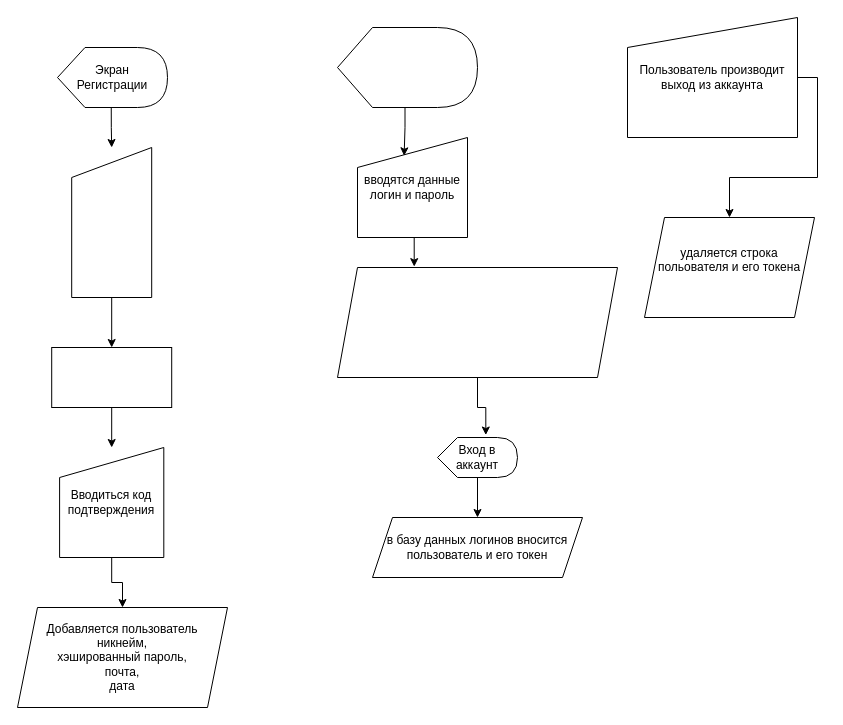
Image size: 843x725. Some labels were removed from this diagram. The shapes that lost their labels are listed below. From the top down, each one's centre as x and y in pixels, then its label:
At pixel 407 67: "Экран входа Показывается строка логина и пароля".
At pixel 111 222: "Пользователь вводит никнейм, почта, пароль".
At pixel 477 322: "идет проверка данных из базы данных о пользователях".
At pixel 111 377: "На почту приходит 2FA".
